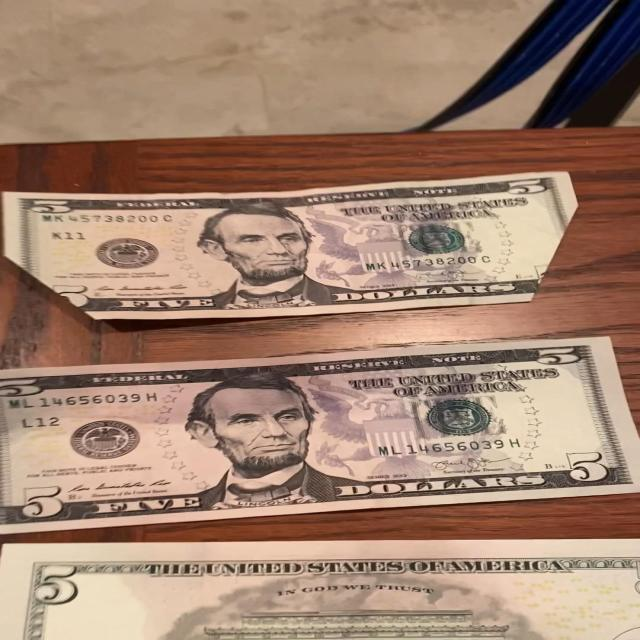5-Back: (0, 528, 640, 640)
5-Front: (0, 332, 634, 542), (0, 168, 598, 330)
